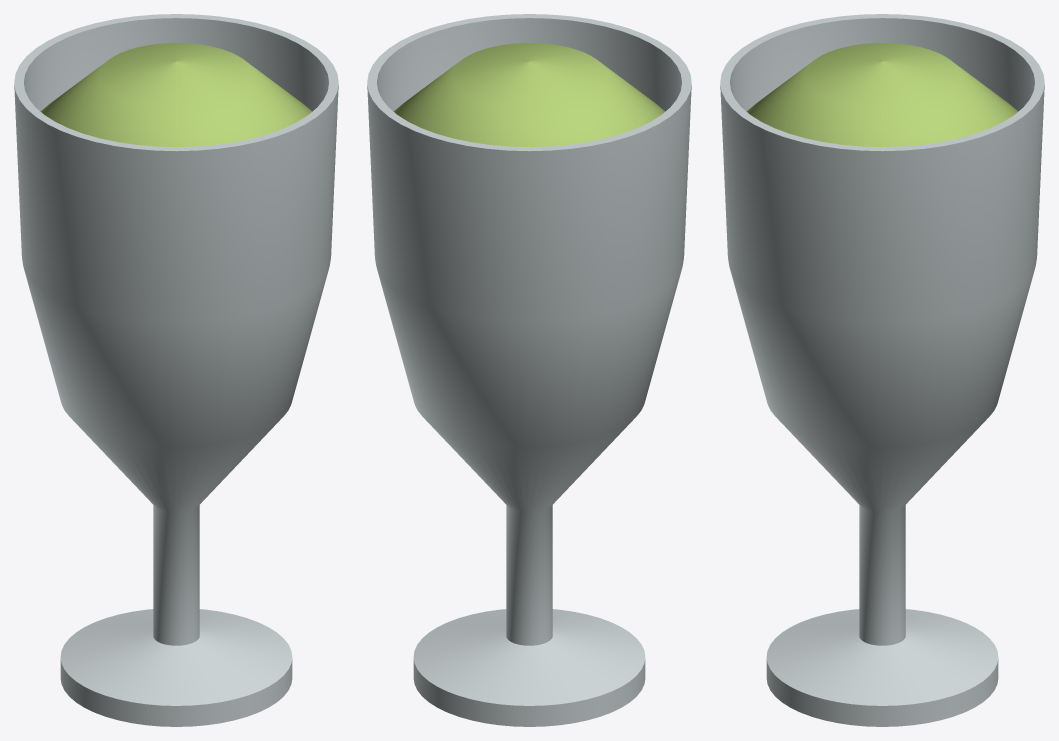
The model's file is cremoso-verde.glb.
3 views of the same model, side by side, from view 1: azimuth 30°, elevation 25°; view 2: azimuth 150°, elevation 25°; view 3: azimuth 270°, elevation 25° (orthographic).
Parts seen in each view (by area): view 1: cremoso-verde; view 2: cremoso-verde; view 3: cremoso-verde.
Boxes of the visible parts, <box> form: cremoso-verde: <box>14,14,338,726</box>; cremoso-verde: <box>367,14,691,726</box>; cremoso-verde: <box>720,14,1044,726</box>.
Size of the model in its own units: 0.084 by 0.176 by 0.084.
